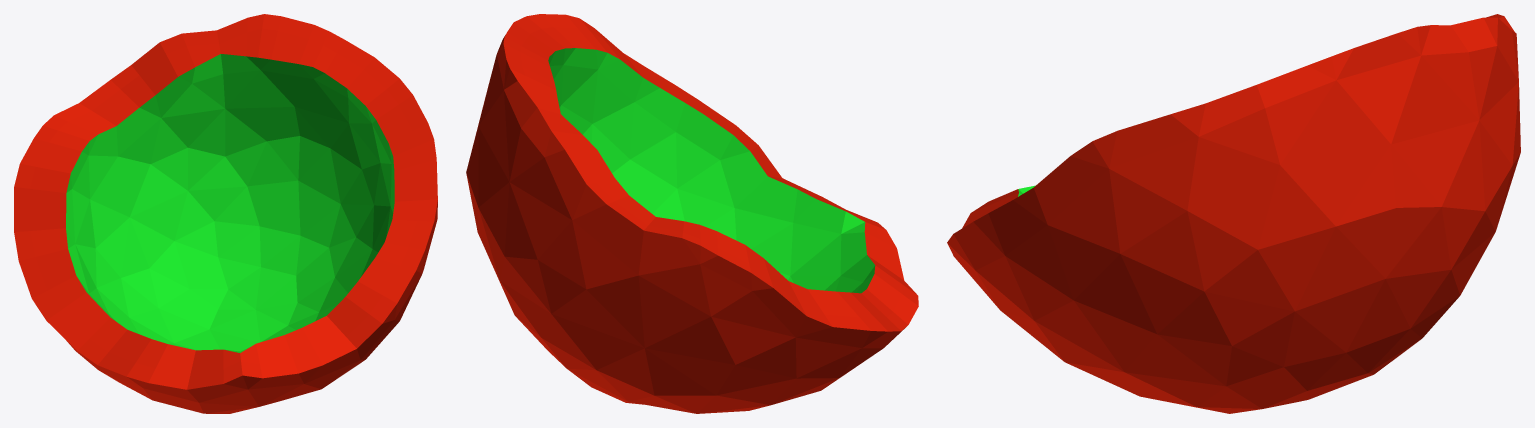
Rendered from Kokos-pół.fbx.
3 views of the same model, side by side, from view 1: azimuth 30°, elevation 25°; view 2: azimuth 150°, elevation 25°; view 3: azimuth 270°, elevation 25° (orthographic). The views are drawn at different scales.
Parts seen in each view (by area): view 1: Sphere.002_Sphere.779; view 2: Sphere.002_Sphere.779; view 3: Sphere.002_Sphere.779.
Boxes of the visible parts, x1=… form: Sphere.002_Sphere.779: x1=14, y1=14, x2=437, y2=413; Sphere.002_Sphere.779: x1=466, y1=14, x2=918, y2=413; Sphere.002_Sphere.779: x1=947, y1=14, x2=1520, y2=413.
Bounding box in the file's own units: 132 × 110 × 133.
